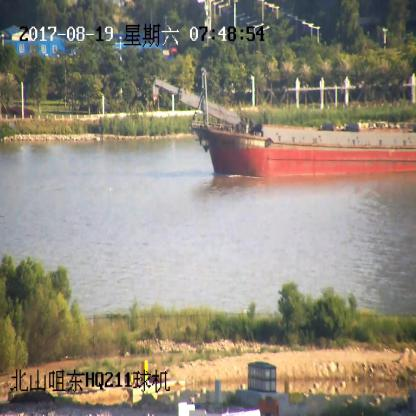Bulk Carrier: (153, 74, 416, 178)
